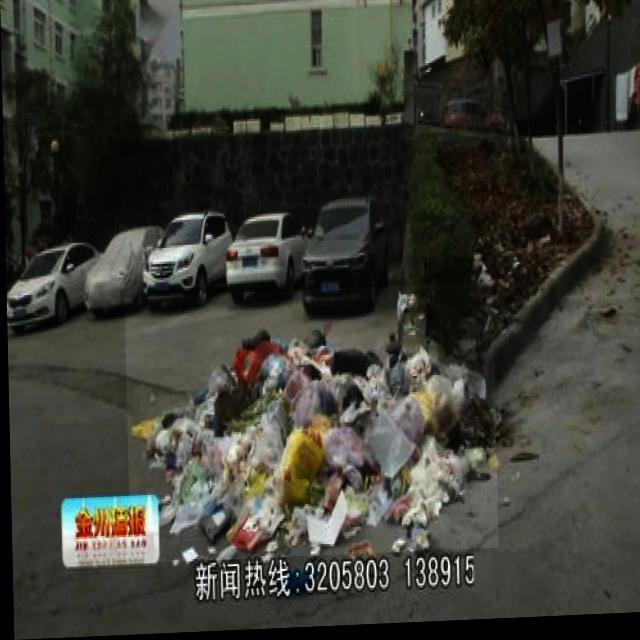garbage: (123, 286, 496, 565)
